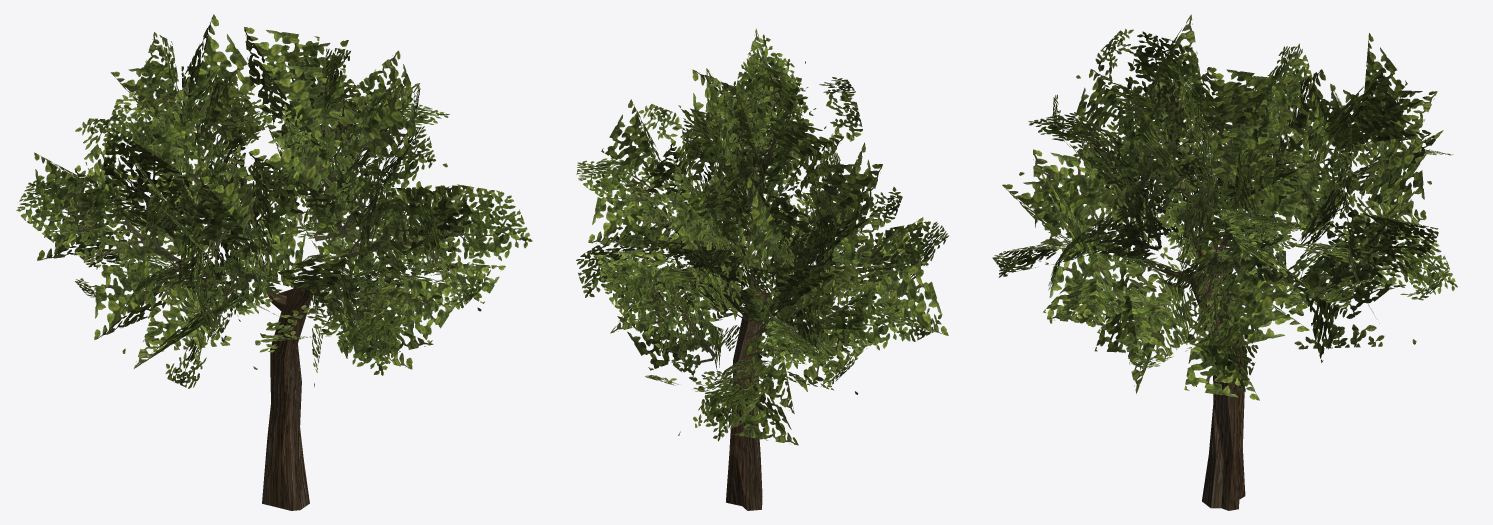
File: big tree.fbx
The picture shows the model from 3 angles, left to right: view 1: azimuth 30°, elevation 25°; view 2: azimuth 150°, elevation 25°; view 3: azimuth 270°, elevation 25°; orthographic projection. The views are drawn at different scales.
Parts seen in each view (by area): view 1: tree2_a_trunk_10m_1_Mat_0.001; view 2: tree2_a_trunk_10m_1_Mat_0.001; view 3: tree2_a_trunk_10m_1_Mat_0.001.
Part boxes in pixels (x1=…): tree2_a_trunk_10m_1_Mat_0.001: x1=16, y1=14, x2=532, y2=510; tree2_a_trunk_10m_1_Mat_0.001: x1=576, y1=28, x2=948, y2=510; tree2_a_trunk_10m_1_Mat_0.001: x1=992, y1=14, x2=1457, y2=510.
Bounding box in the file's own units: 311 × 381 × 347.
